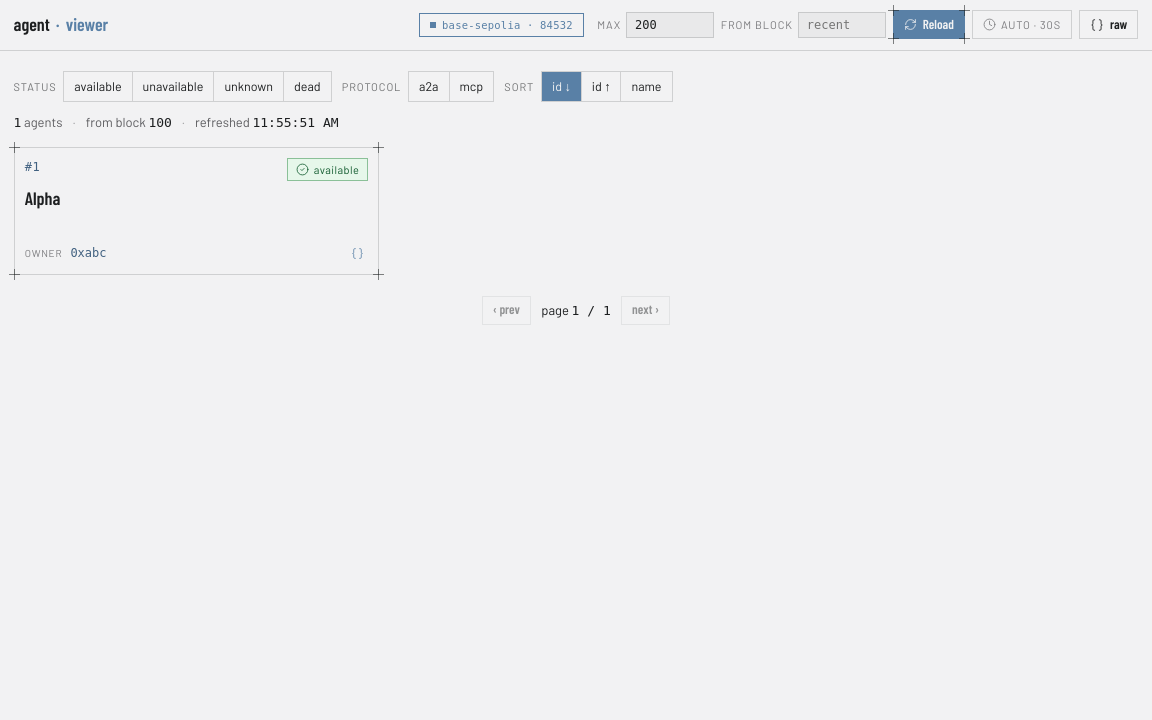
Scenario: App › opens the agent detail dialog when a card is clicked
Expected: the text "Alpha" is shown, 25,187 -> 60,209
Click the button with aria-label "agent 1 details".
click(327, 170)  # box 14,147 -> 380,275
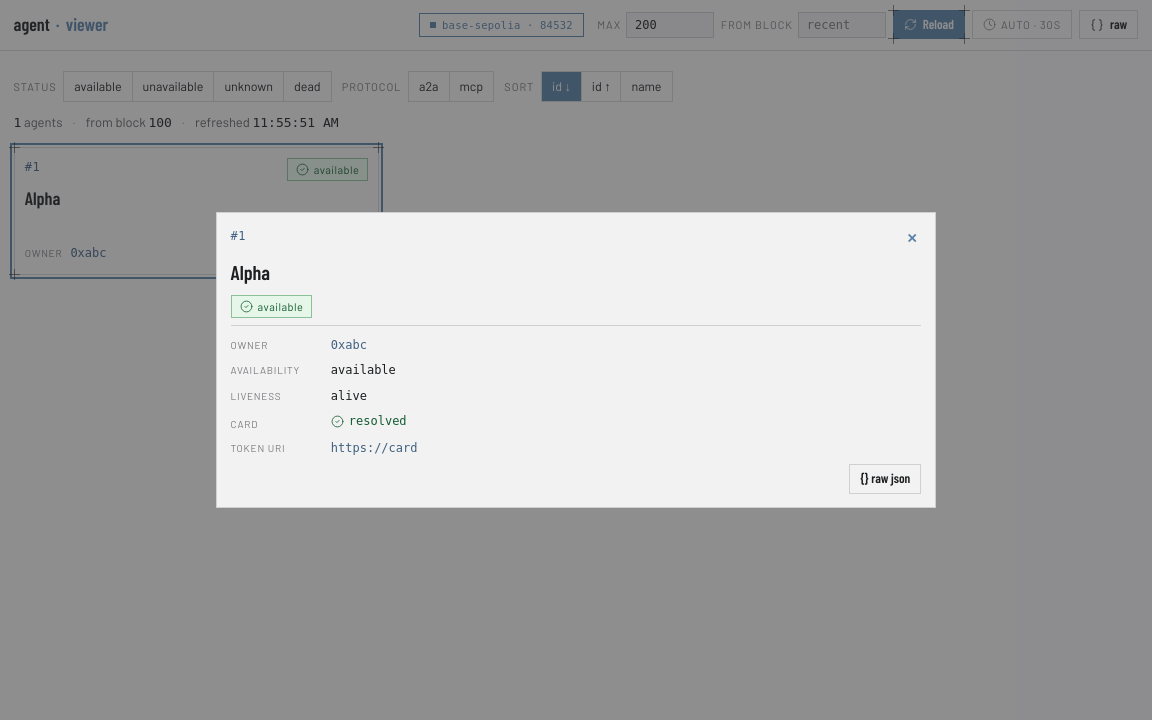
Expected: the dialog named "agent #1" shows "Alpha", 231,260 -> 270,284
Expected: the dialog named "agent #1" shows "0xabc", 331,336 -> 921,354
Click the button named "close".
click(912, 238)  # box 902,226 -> 921,250
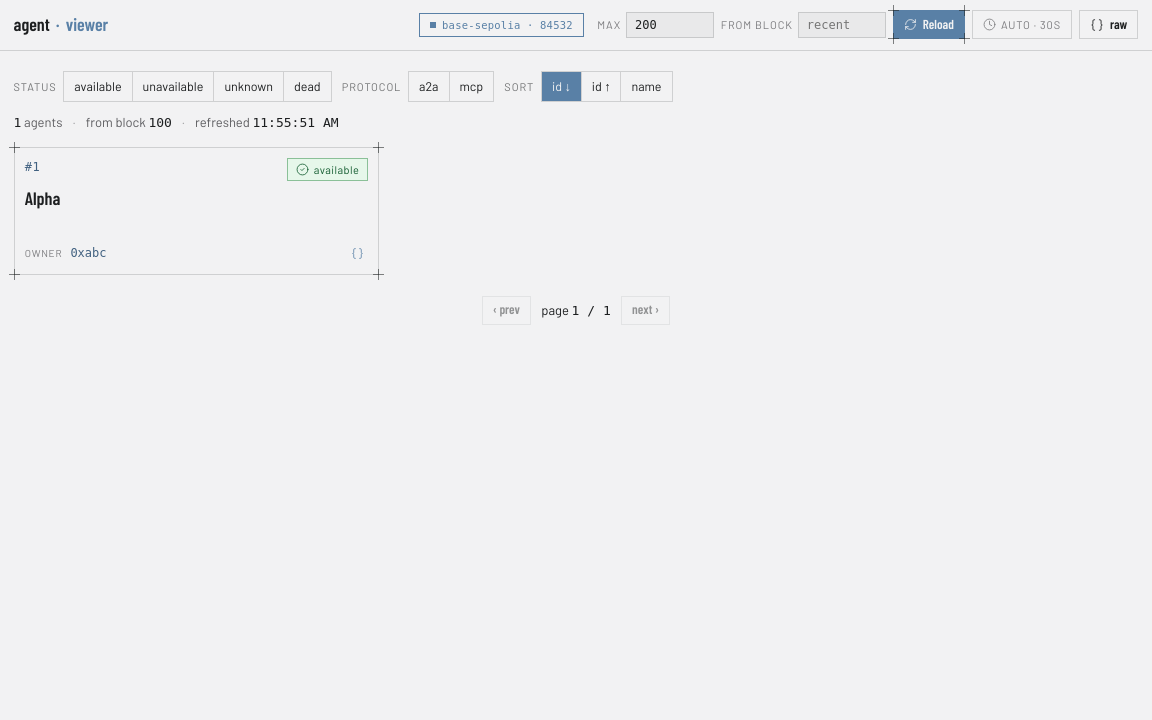
Expected: the dialog is gone
